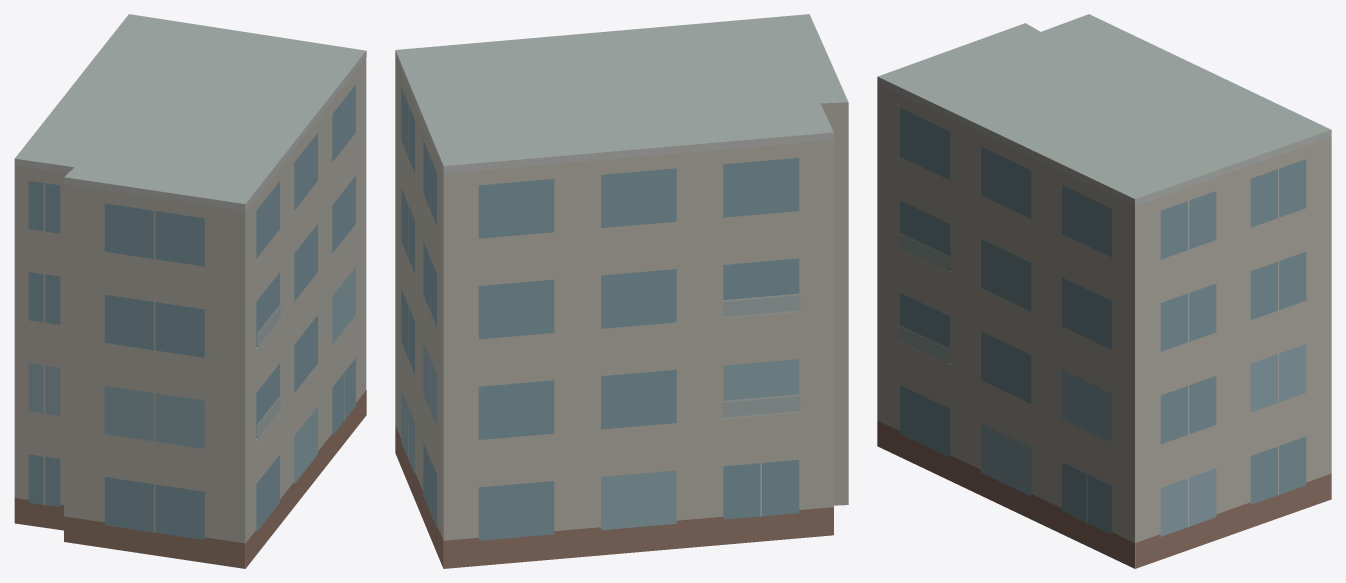
The model's file is survey-upis-32936461.glb.
3 renders of one model, left to right at view 1: azimuth 30°, elevation 25°; view 2: azimuth 150°, elevation 25°; view 3: azimuth 270°, elevation 25°, orthographic. The views are drawn at different scales.
Parts seen in each view (by area): view 1: survey-upis-32936461.tmp; view 2: survey-upis-32936461.tmp; view 3: survey-upis-32936461.tmp.
Part boxes in pixels (<box>): survey-upis-32936461.tmp: <box>14,14,366,568</box>; survey-upis-32936461.tmp: <box>395,14,848,568</box>; survey-upis-32936461.tmp: <box>877,14,1331,568</box>.
Size of the model in its own units: 14.09 by 13.1 by 14.59.
